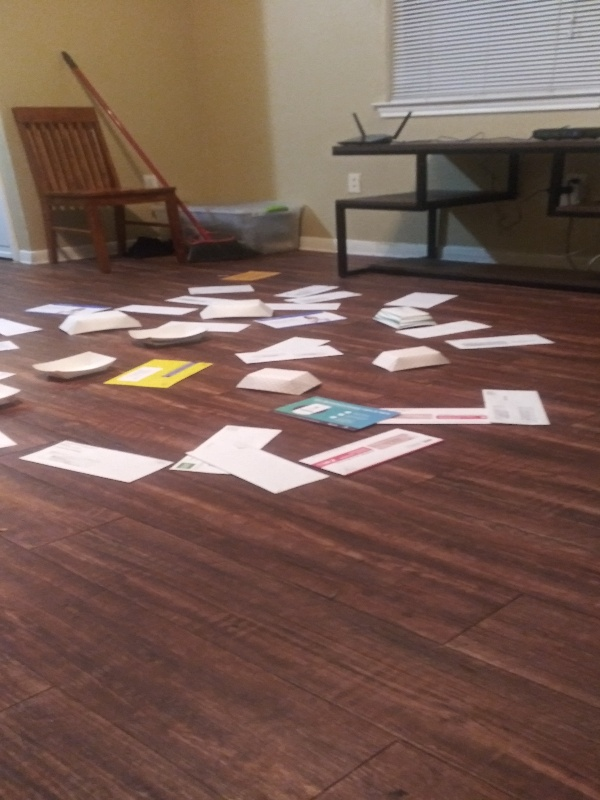plate: (29, 347, 122, 388), (368, 343, 457, 378), (56, 308, 148, 341), (234, 367, 325, 398), (128, 319, 214, 350), (193, 297, 283, 321), (370, 303, 441, 332), (1, 375, 29, 416)
